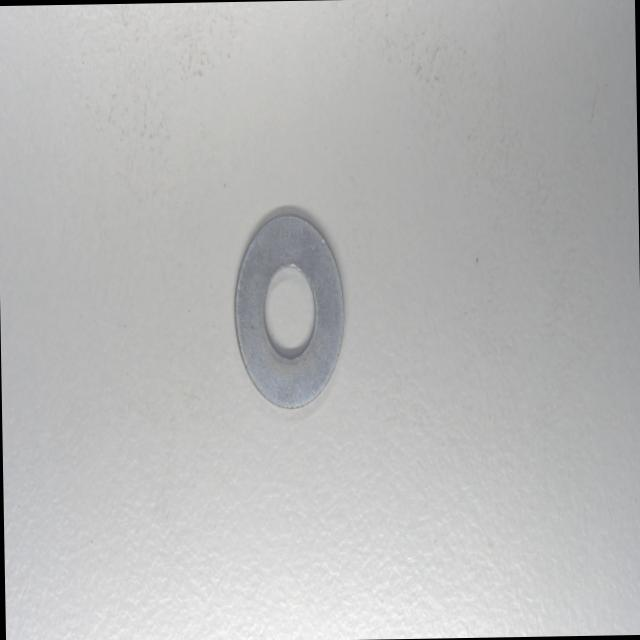washer: (234, 210, 348, 412)
